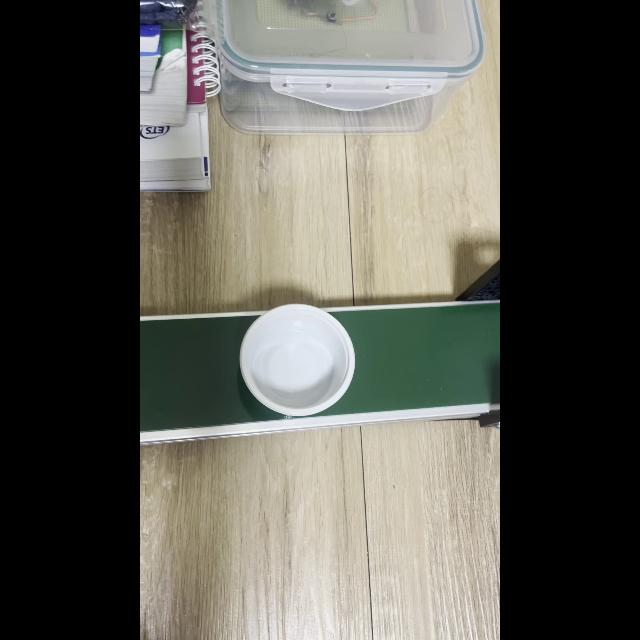clean: (247, 312, 345, 408)
